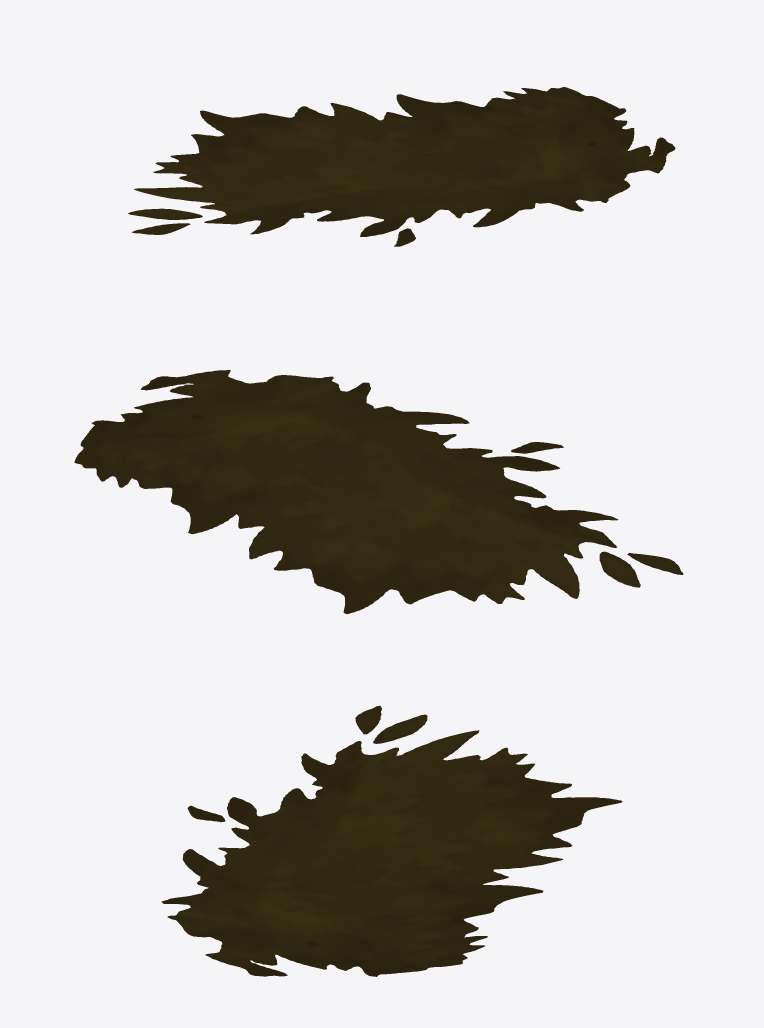
File: Juesexuanze_shuye01.FBX
3 renders of one model, top to bottom at view 1: azimuth 30°, elevation 25°; view 2: azimuth 150°, elevation 25°; view 3: azimuth 270°, elevation 25°, orthographic. The views are drawn at different scales.
Parts seen in each view (by area): view 1: Juesexuanze_shuye01; view 2: Juesexuanze_shuye01; view 3: Juesexuanze_shuye01.
Boxes of the visible parts, box(x1,y1,x2,y2) form: Juesexuanze_shuye01: box(128, 87, 675, 246); Juesexuanze_shuye01: box(74, 370, 683, 613); Juesexuanze_shuye01: box(161, 705, 622, 976).
Bounding box in the file's own units: 90.7 × 0.8254 × 81.18.
Materials: 1 (1 with a texture image).
